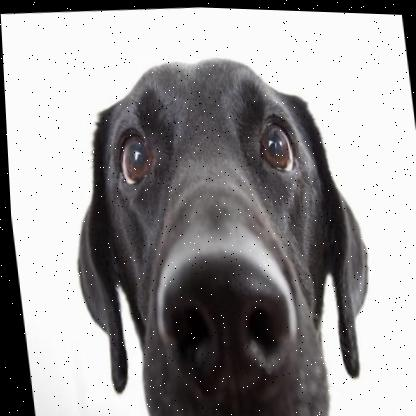dog: (45, 36, 396, 416)
